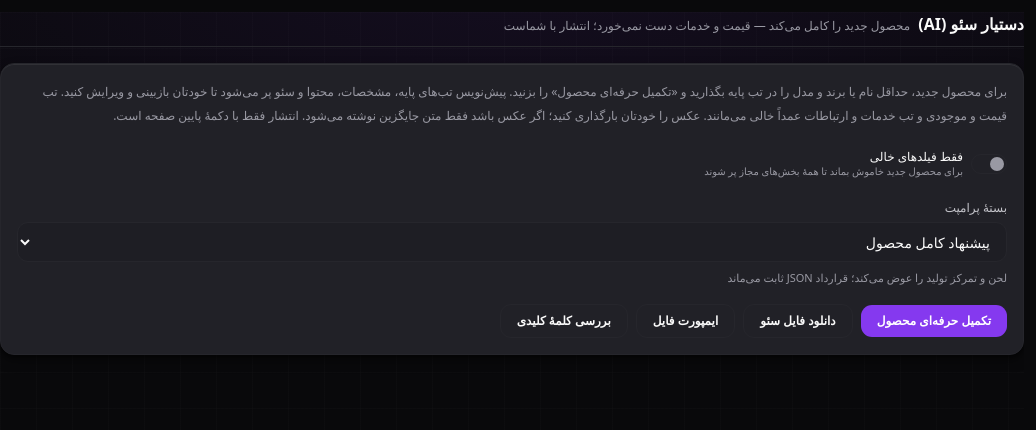
SeoAiPanel › خطای فارسی سرور را نشان می‌دهد
Click the button "تکمیل حرفه‌ای محصول" at (934, 321), box [861,305,1007,337]
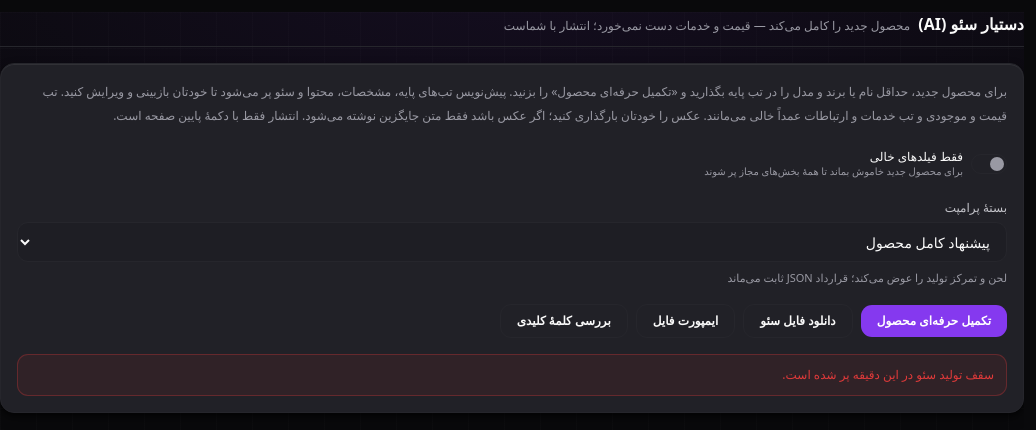
Result: the message shows "سقف تولید سئو" at [782,366,994,383]
